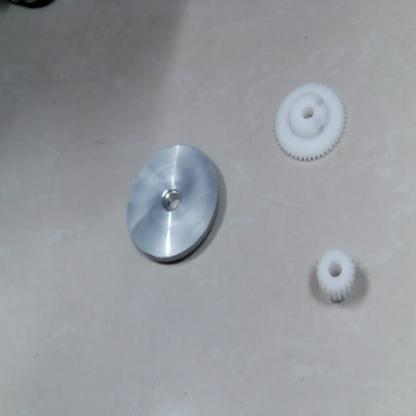FOD: (124, 143, 227, 266), (274, 84, 345, 163), (316, 243, 356, 306)
